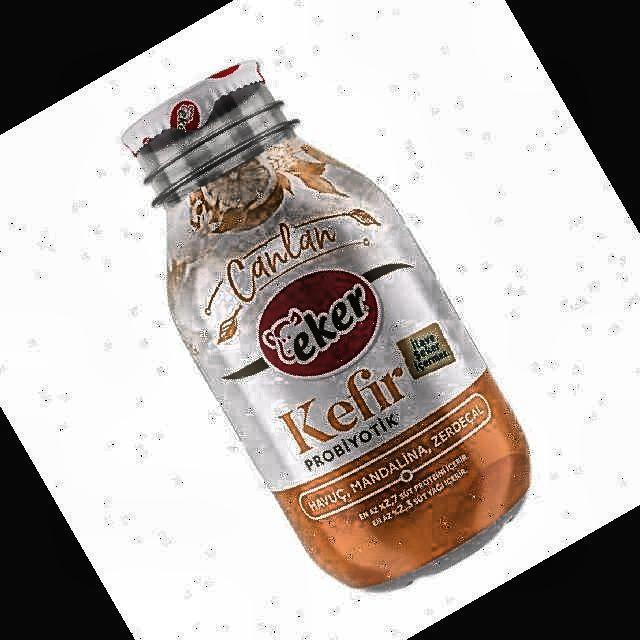plastic: (122, 62, 530, 586)
